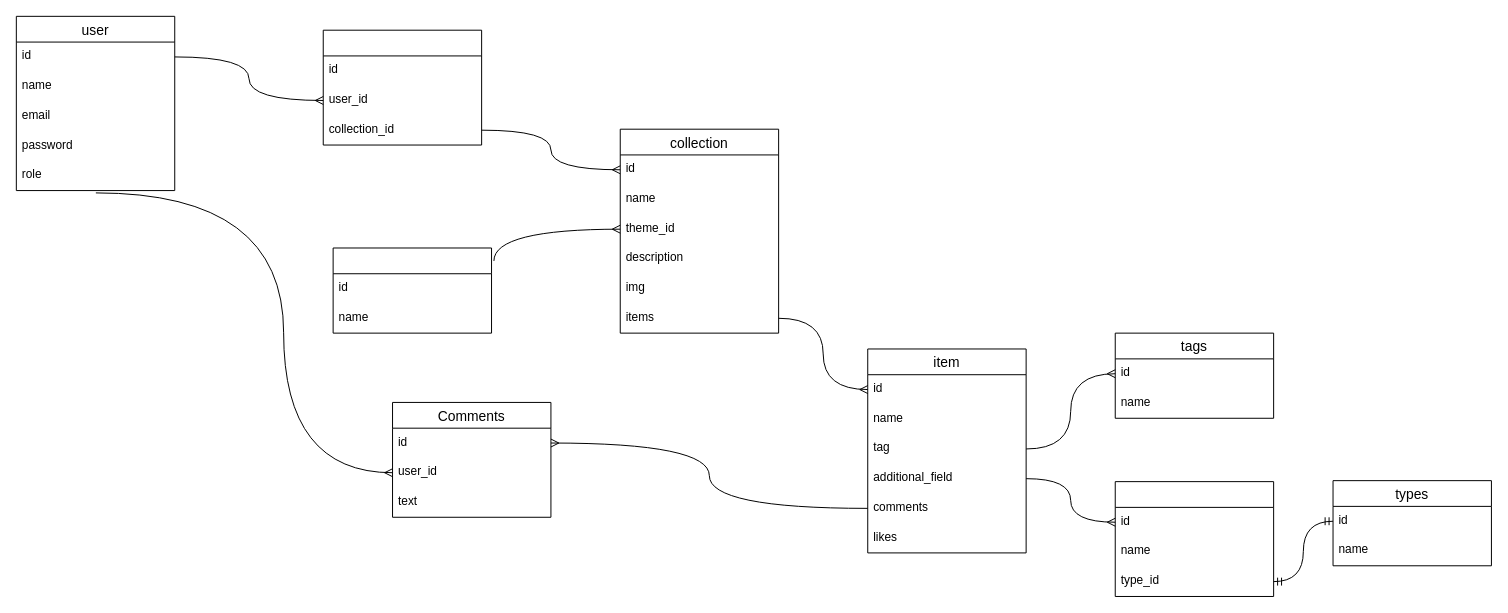
This 1508x613 diagram has some shape labels left out. Here are the shapes that lost their labels. From the top down, the box of each, then its label:
(322, 29, 482, 145): personal_collections
(332, 247, 492, 333): theme
(1114, 481, 1274, 596): fields
